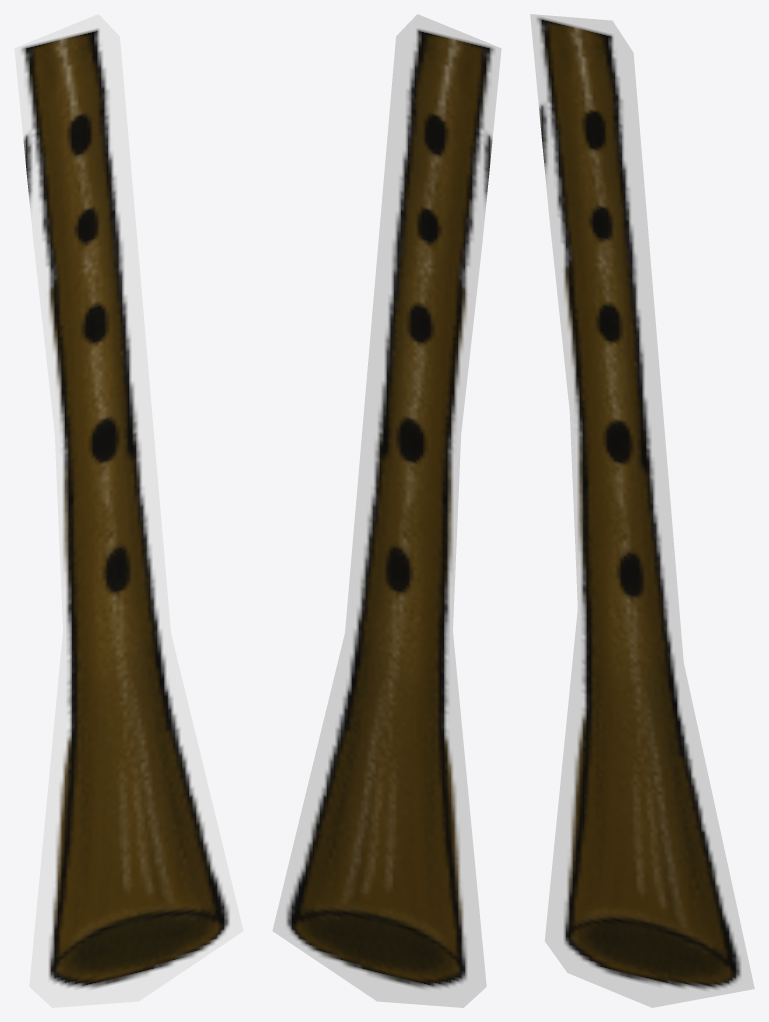
Rendered from pistala_2.glb.
The picture shows the model from 3 angles, left to right: view 1: azimuth 30°, elevation 25°; view 2: azimuth 150°, elevation 25°; view 3: azimuth 330°, elevation 25°; orthographic projection. The views are drawn at different scales.
Parts seen in each view (by area): view 1: Plane.008; view 2: Plane.008; view 3: Plane.008.
Part boxes in pixels (bbox=[...]): Plane.008: bbox=[14, 14, 243, 1007]; Plane.008: bbox=[272, 14, 501, 1007]; Plane.008: bbox=[530, 14, 754, 1007].
Size of the model in its own units: 1.58 by 6.56 by 0.
Materials: 1 (1 with a texture image).
